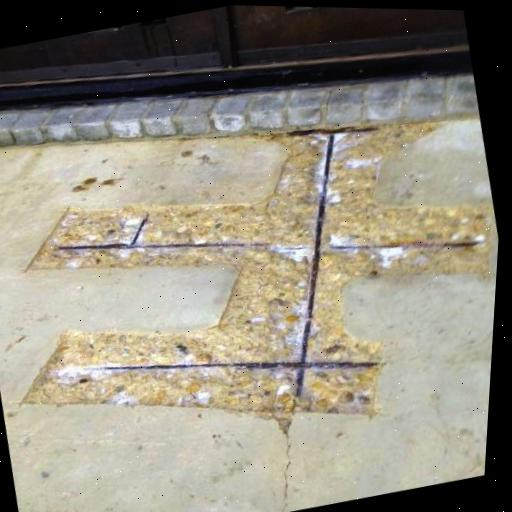exposed_rebar: (296, 133, 333, 395), (58, 215, 244, 249), (95, 360, 379, 372), (331, 240, 479, 251)
spalling: (25, 123, 490, 423)
